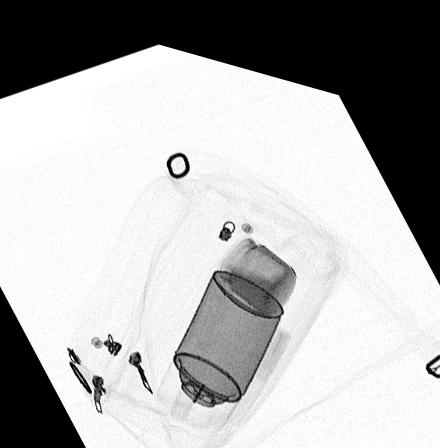Sprayer: (152, 255, 285, 426)
